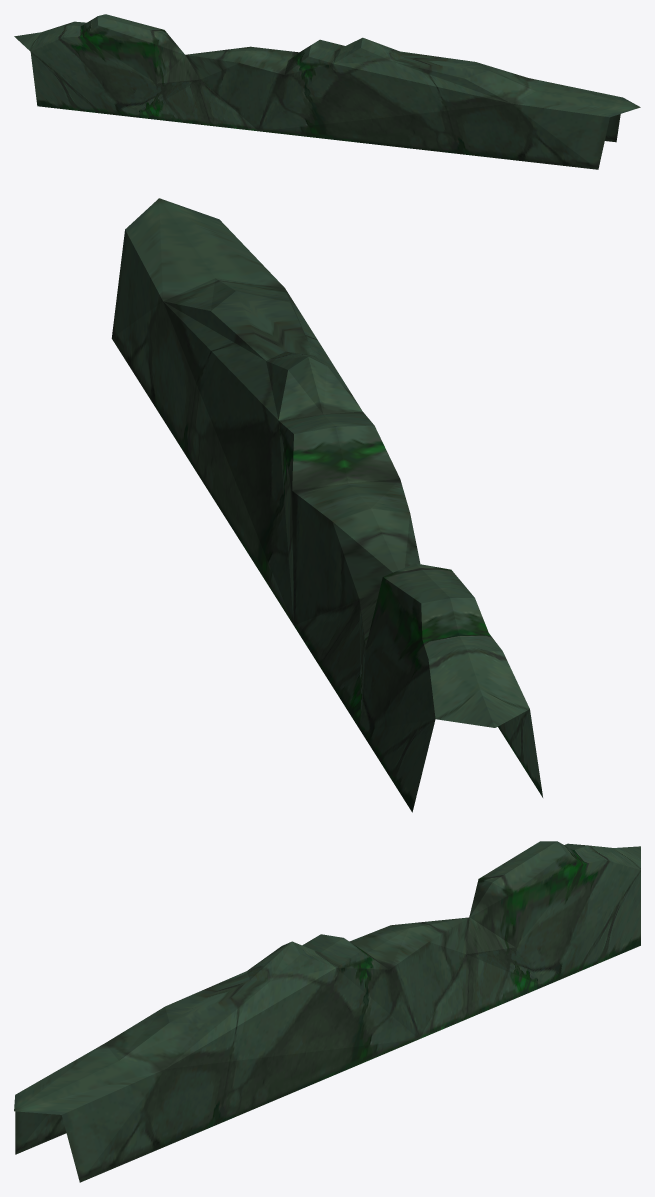
The model's file is stemple_cap_diagonal_02.fbx.
The picture shows the model from 3 angles, top to bottom: view 1: azimuth 30°, elevation 25°; view 2: azimuth 150°, elevation 25°; view 3: azimuth 270°, elevation 25°; orthographic projection. The views are drawn at different scales.
Parts seen in each view (by area): view 1: obj0.240; view 2: obj0.240; view 3: obj0.240.
Part boxes in pixels (x1,y1,x2,y2): obj0.240: (14, 14, 640, 169); obj0.240: (111, 198, 542, 812); obj0.240: (14, 841, 640, 1182).
Size of the model in its own units: 4 by 0.8728 by 4.
